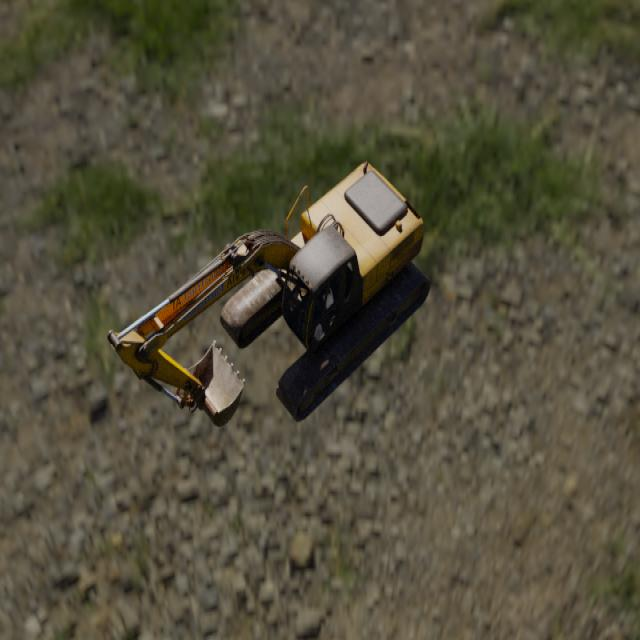excavator: (106, 160, 431, 427)
